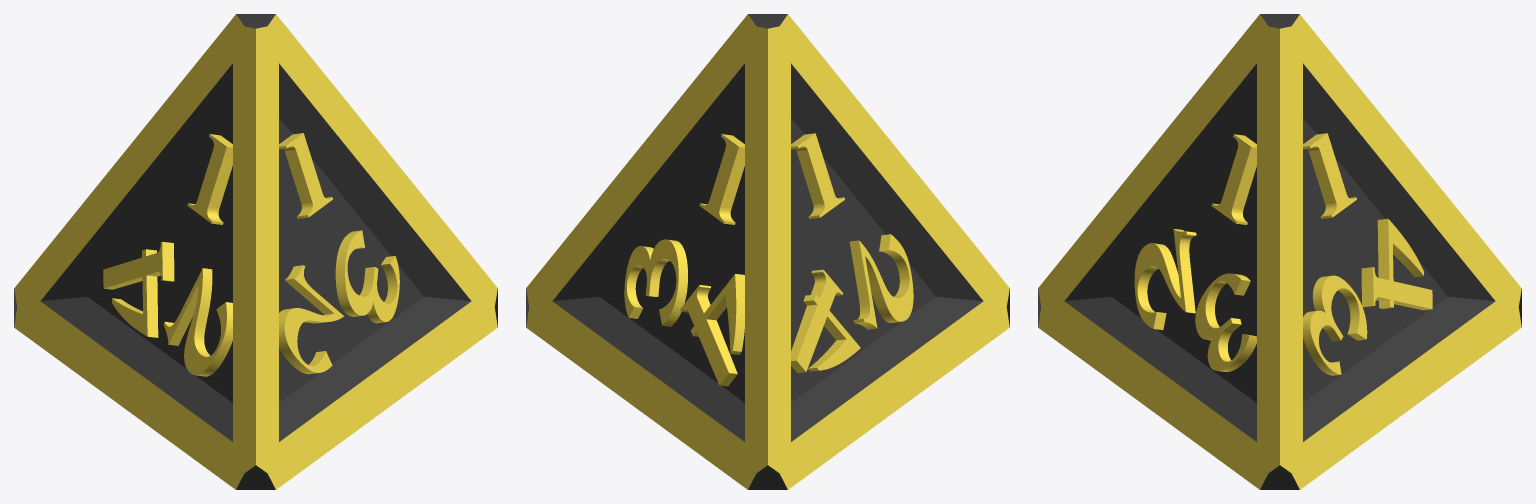
The picture shows the model from 3 angles, left to right: view 1: azimuth 30°, elevation 25°; view 2: azimuth 150°, elevation 25°; view 3: azimuth 270°, elevation 25°; orthographic projection.
Visible parts, largest first — view 1: d4, d4_face_4, d4_face_3; view 2: d4, d4_face_2, d4_face_3; view 3: d4, d4_face_4, d4_face_2.
Boxes of the visible parts, left/top/right/bottom form: d4: left=14, top=14, right=497, bottom=489; d4_face_4: left=256, top=14, right=497, bottom=489; d4_face_3: left=14, top=14, right=255, bottom=489; d4: left=526, top=14, right=1009, bottom=489; d4_face_2: left=526, top=14, right=767, bottom=489; d4_face_3: left=768, top=14, right=1009, bottom=489; d4: left=1038, top=14, right=1521, bottom=489; d4_face_4: left=1038, top=14, right=1279, bottom=489; d4_face_2: left=1280, top=14, right=1521, bottom=489.
Bounding box in the file's own units: 1.34 × 1.23 × 1.51.
